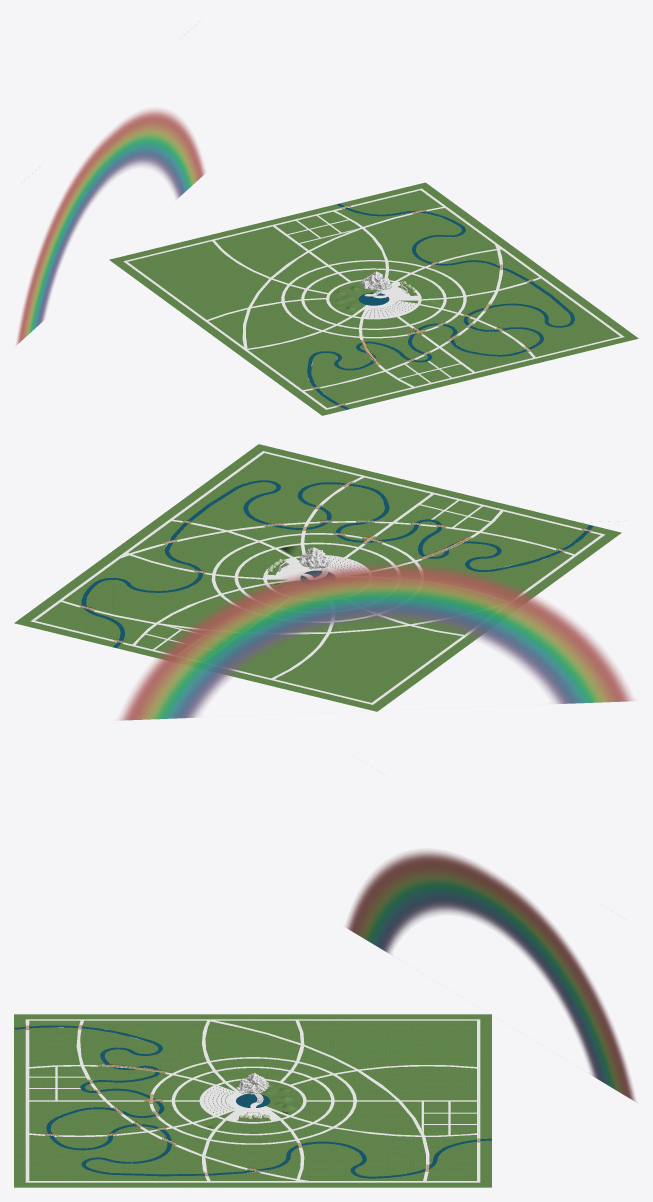
Rendered from GENERAL MAP.glb.
The picture shows the model from 3 angles, top to bottom: view 1: azimuth 30°, elevation 25°; view 2: azimuth 150°, elevation 25°; view 3: azimuth 270°, elevation 25°; orthographic projection. The views are drawn at different scales.
Visible parts, largest first — view 1: SketchUp, SketchUp.016, SketchUp.018, SketchUp.014; view 2: SketchUp, SketchUp.016, SketchUp.018, SketchUp.014, SketchUp.073, SketchUp.068, SketchUp.087; view 3: SketchUp, SketchUp.016, SketchUp.018, SketchUp.014.
Part boxes in pixels (bbox=[...]): SketchUp: bbox=[109, 182, 638, 415]; SketchUp.016: bbox=[16, 31, 205, 345]; SketchUp.018: bbox=[123, 188, 624, 409]; SketchUp.014: bbox=[307, 203, 574, 409]; SketchUp: bbox=[14, 444, 621, 711]; SketchUp.016: bbox=[118, 521, 634, 720]; SketchUp.018: bbox=[30, 451, 605, 704]; SketchUp.014: bbox=[81, 480, 593, 647]; SketchUp.073: bbox=[80, 481, 591, 643]; SketchUp.068: bbox=[299, 547, 331, 569]; SketchUp.087: bbox=[81, 481, 591, 642]; SketchUp: bbox=[14, 1014, 491, 1187]; SketchUp.016: bbox=[345, 850, 635, 1101]; SketchUp.018: bbox=[25, 1019, 480, 1182]; SketchUp.014: bbox=[14, 1025, 491, 1178].
Bounding box in the file's own units: 531 × 167 × 536.
11 materials, 7 textured.
